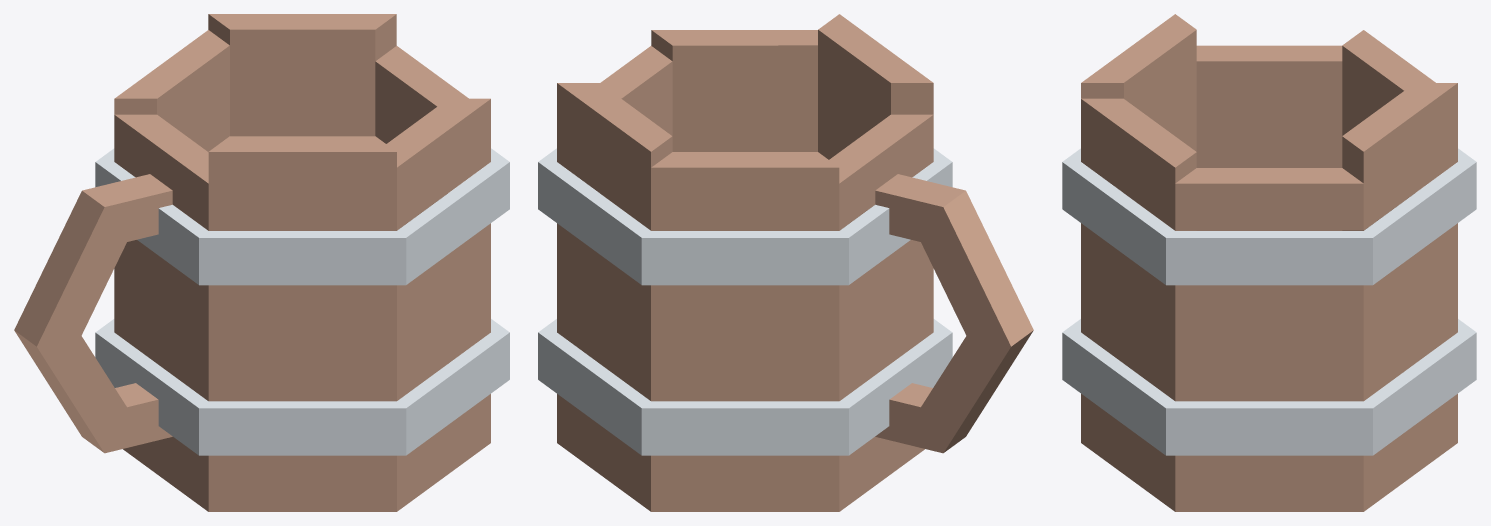
The model's file is mug.glb.
3 views of the same model, side by side, from view 1: azimuth 30°, elevation 25°; view 2: azimuth 150°, elevation 25°; view 3: azimuth 270°, elevation 25° (orthographic).
Parts seen in each view (by area): view 1: mug; view 2: mug; view 3: mug.
Boxes of the visible parts, x1,y1,x2,y2 form: mug: (14, 14, 509, 511); mug: (538, 14, 1033, 511); mug: (1062, 14, 1476, 511).
Bounding box in the file's own units: 0.1257 × 0.1 × 0.1043.
